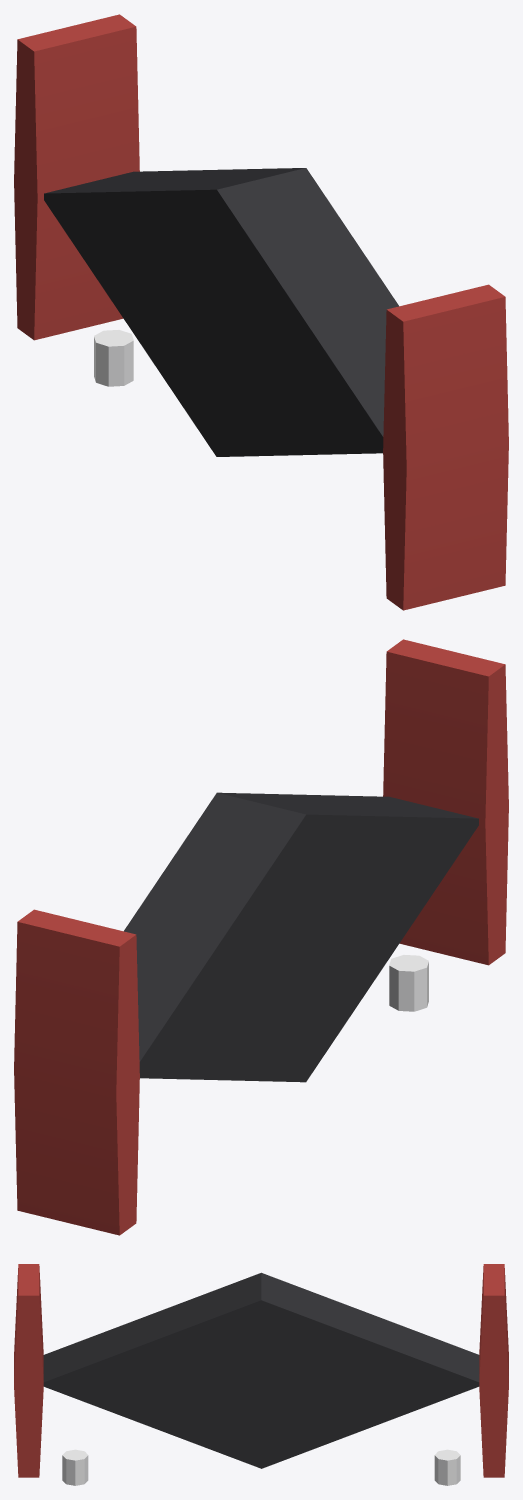
File: oil_cooler_lod1.glb
3 views of the same model, one above another, from view 1: azimuth 30°, elevation 25°; view 2: azimuth 150°, elevation 25°; view 3: azimuth 270°, elevation 25° (orthographic). The views are drawn at different scales.
Visible parts, largest first — view 1: oil_cooler_lod1; view 2: oil_cooler_lod1; view 3: oil_cooler_lod1.
Part boxes in pixels (x1,y1,x2,y2): oil_cooler_lod1: [14, 14, 508, 610]; oil_cooler_lod1: [14, 639, 508, 1235]; oil_cooler_lod1: [14, 1264, 508, 1485].
Size of the model in its own units: 0.04 by 0.119 by 0.266.
